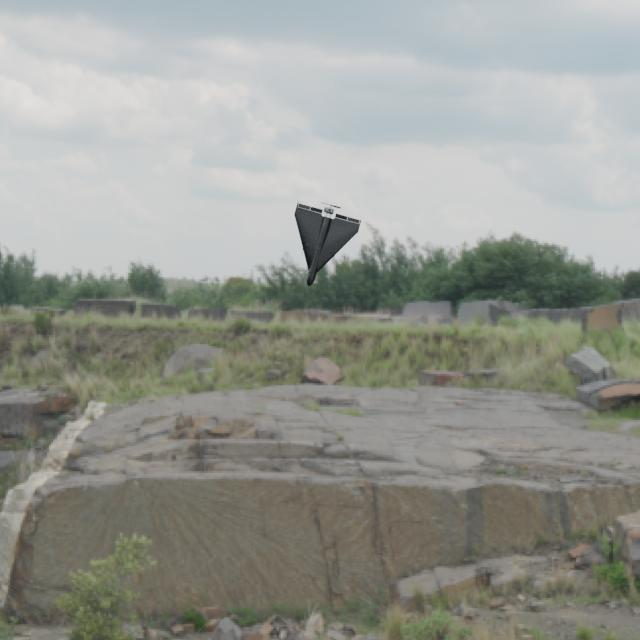Airaplan: (294, 200, 361, 286)
